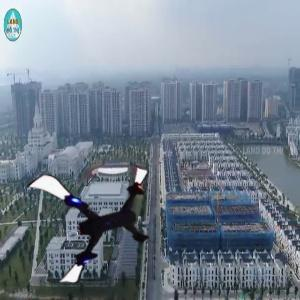drone: (30, 164, 158, 292)
